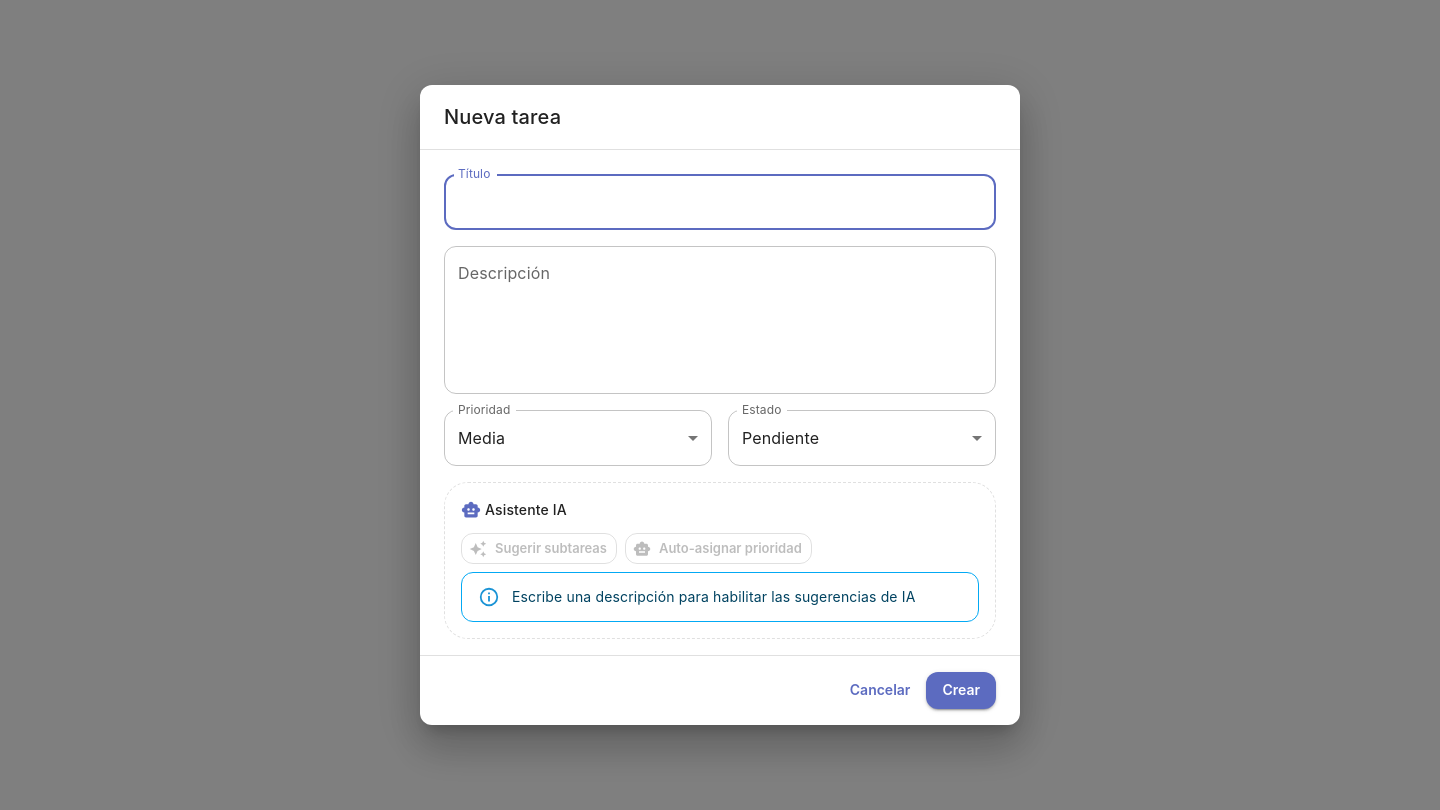
Test: TaskFormDialog › sección IA › debe habilitar "Sugerir subtareas" al escribir descripción
Type "Preparar presentación" into the text box labelled "Descripción" at {"x": 720, "y": 320}, box 458,263 -> 982,378
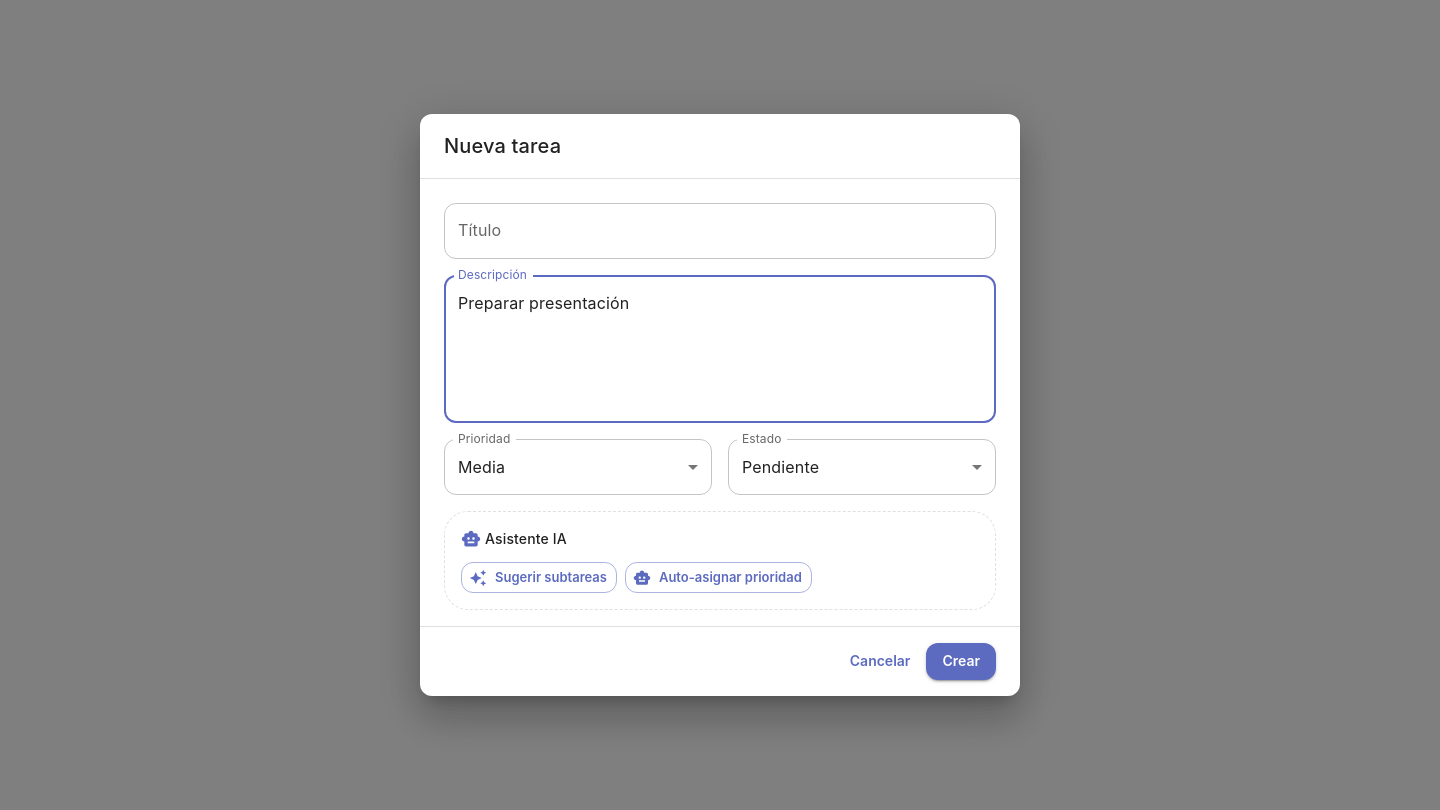
Now the button "Sugerir subtareas" is enabled, box 461,562 -> 617,593
